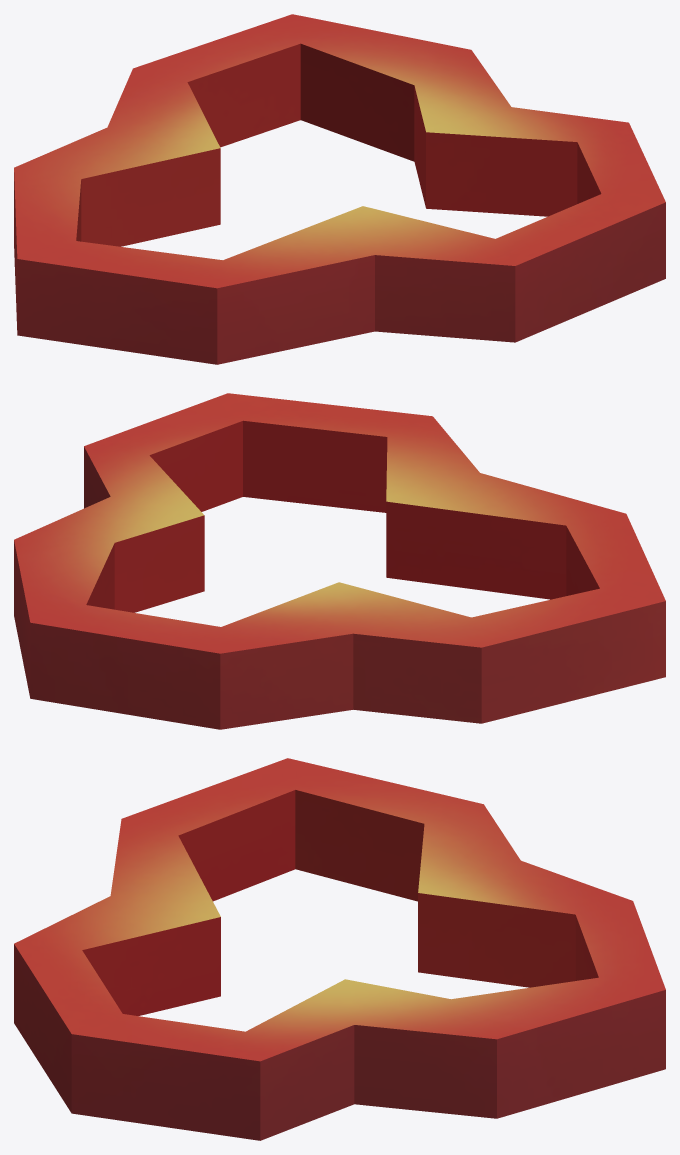
File: food_slice_bellpepper.FBX
The picture shows the model from 3 angles, top to bottom: view 1: azimuth 30°, elevation 25°; view 2: azimuth 150°, elevation 25°; view 3: azimuth 270°, elevation 25°; orthographic projection. The views are drawn at different scales.
Parts seen in each view (by area): view 1: food_slice_bellpepper; view 2: food_slice_bellpepper; view 3: food_slice_bellpepper.
Part boxes in pixels (bbox=[...]): food_slice_bellpepper: bbox=[14, 14, 665, 364]; food_slice_bellpepper: bbox=[14, 393, 665, 729]; food_slice_bellpepper: bbox=[14, 758, 665, 1140].
Size of the model in its own units: 70.27 by 8.59 by 63.84.
